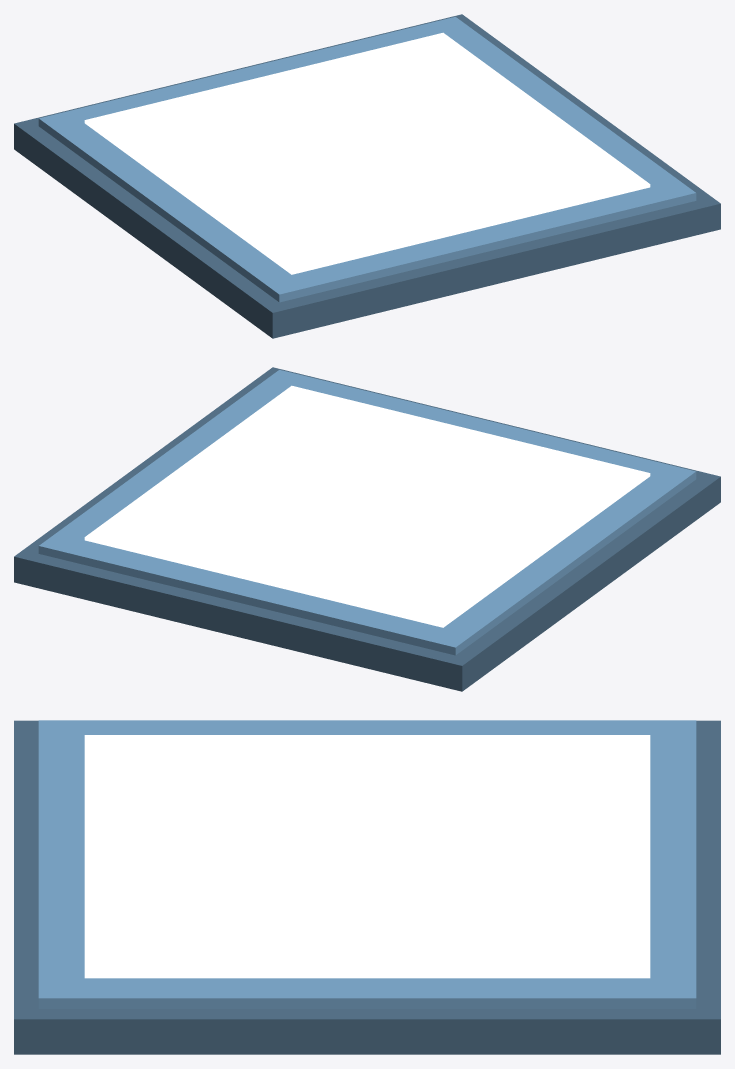
Rendered from k_ice.glb.
3 views of the same model, one above another, from view 1: azimuth 30°, elevation 25°; view 2: azimuth 150°, elevation 25°; view 3: azimuth 270°, elevation 25° (orthographic). The views are drawn at different scales.
Parts seen in each view (by area): view 1: piece; view 2: piece; view 3: piece.
Part boxes in pixels (x1,y1,x2,y2): piece: (14, 14, 720, 338); piece: (14, 367, 720, 691); piece: (14, 720, 720, 1054).
Bounding box in the file's own units: 1 × 0.0794 × 1.
